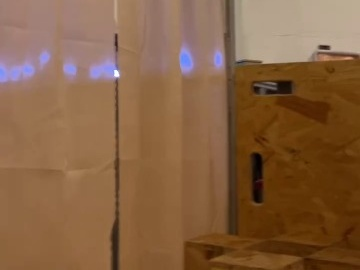curtain: (0, 0, 238, 251)
